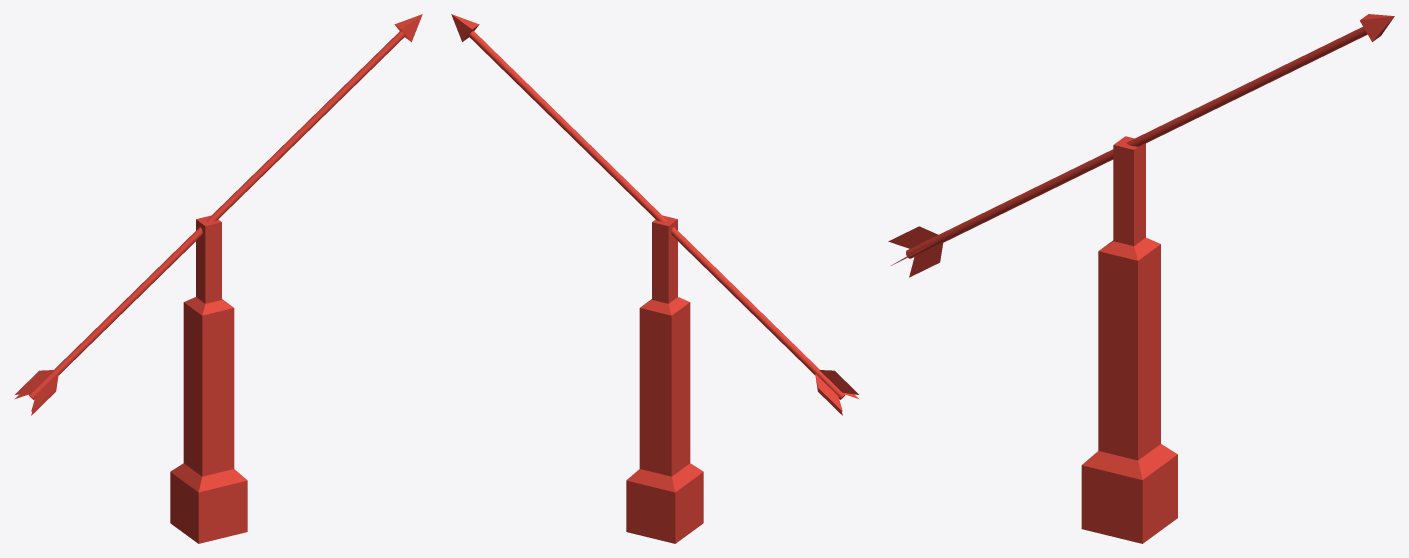
The model's file is Strzala.fbx.
The picture shows the model from 3 angles, left to right: view 1: azimuth 30°, elevation 25°; view 2: azimuth 150°, elevation 25°; view 3: azimuth 330°, elevation 25°; orthographic projection. The views are drawn at different scales.
Visible parts, largest first — view 1: Strzala; view 2: Strzala; view 3: Strzala.
Boxes of the visible parts, <box> form: Strzala: <box>14,14,422,543</box>; Strzala: <box>451,14,859,543</box>; Strzala: <box>888,14,1394,543</box>.
Size of the model in its own units: 1.58 by 1.71 by 0.1907.
